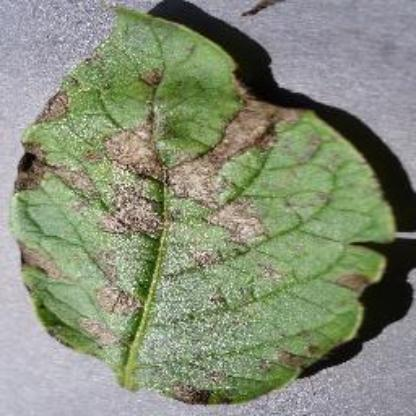Early-Blight: (10, 0, 414, 406)
